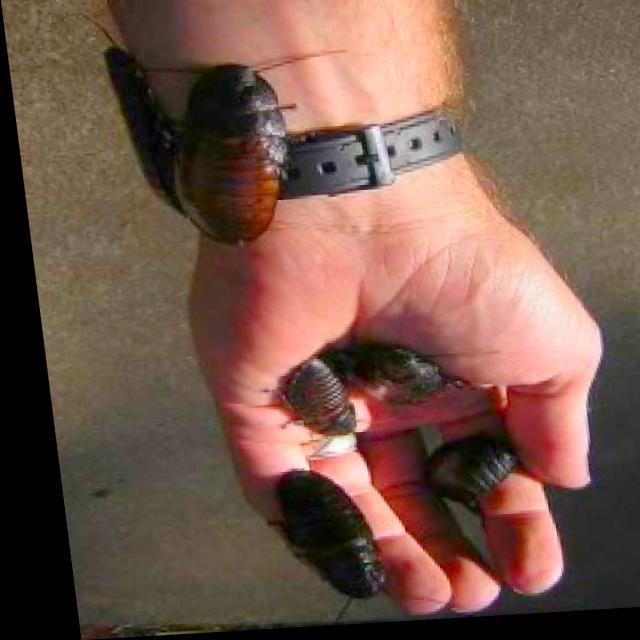cockroach: (171, 28, 303, 265)
